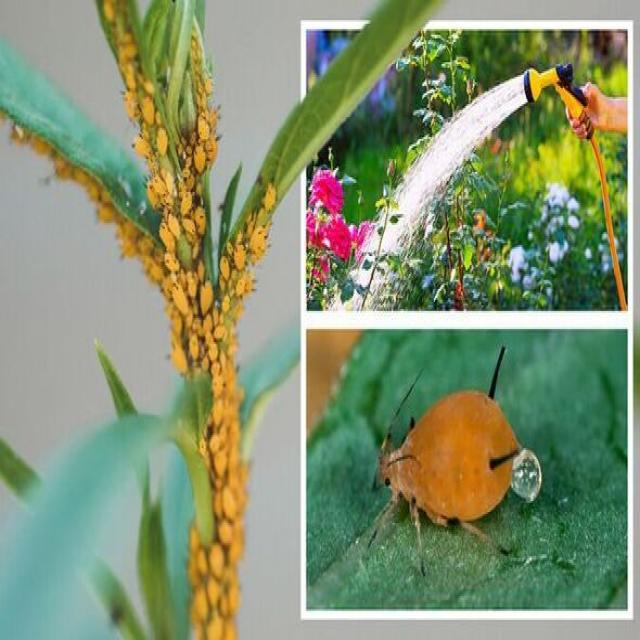Aphid-Grouped-: (120, 32, 218, 265), (201, 367, 251, 634), (217, 175, 284, 327), (164, 261, 252, 365)
Aphid-Grown-: (362, 345, 535, 569)
